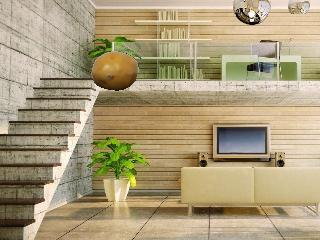potato: (88, 48, 142, 94)
